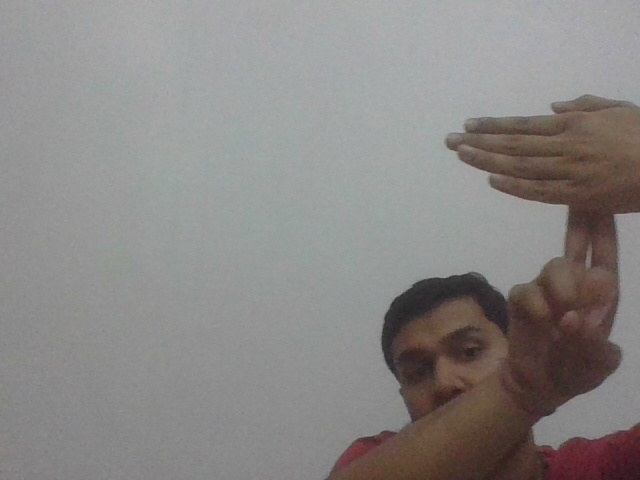N: (440, 92, 640, 261)
